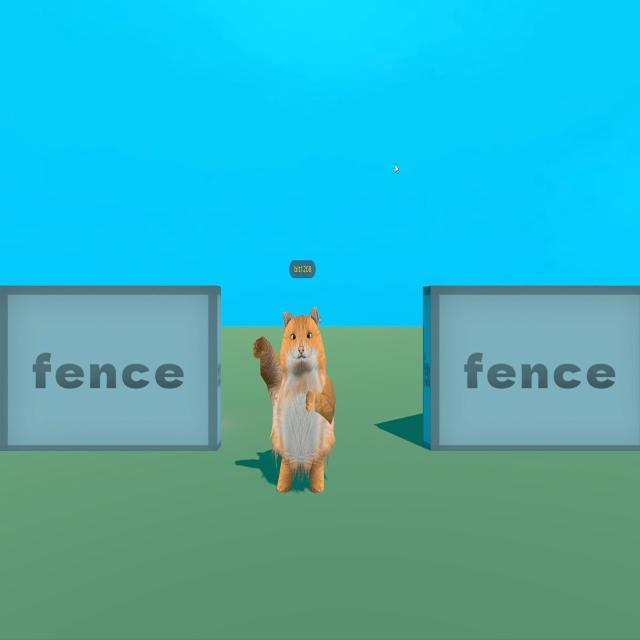human: (249, 286, 338, 502)
